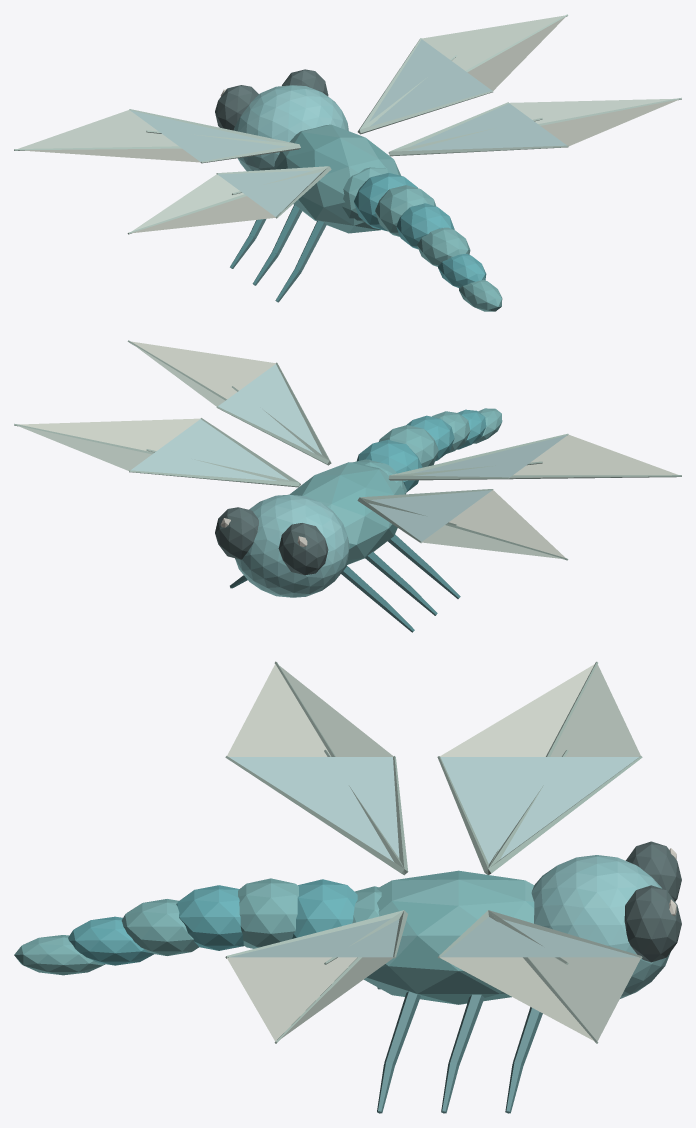
The model's file is dragonfly.glb.
The picture shows the model from 3 angles, top to bottom: view 1: azimuth 30°, elevation 25°; view 2: azimuth 150°, elevation 25°; view 3: azimuth 270°, elevation 25°; orthographic projection. The views are drawn at different scales.
Parts seen in each view (by area): view 1: Four_faceted_wings, Body_segments, Face_and_eyes, Wing_veins, Six_legs; view 2: Four_faceted_wings, Body_segments, Face_and_eyes, Wing_veins, Six_legs; view 3: Four_faceted_wings, Body_segments, Face_and_eyes, Wing_veins, Six_legs.
Part boxes in pixels (box(x1,y1,x2,y2)): Four_faceted_wings: box(18, 15, 679, 233); Body_segments: box(274, 124, 502, 311); Face_and_eyes: box(215, 69, 348, 171); Wing_veins: box(14, 14, 681, 234); Six_legs: box(230, 205, 326, 302); Four_faceted_wings: box(16, 341, 677, 559); Body_segments: box(289, 408, 502, 565); Face_and_eyes: box(215, 494, 349, 597); Wing_veins: box(14, 340, 681, 560); Six_legs: box(230, 534, 460, 632); Four_faceted_wings: box(227, 664, 640, 1041); Body_segments: box(14, 870, 534, 1004); Face_and_eyes: box(531, 841, 681, 998); Wing_veins: box(225, 661, 642, 1043); Six_legs: box(377, 987, 542, 1113).
Size of the model in its own units: 1.82 by 0.4475 by 1.35.
